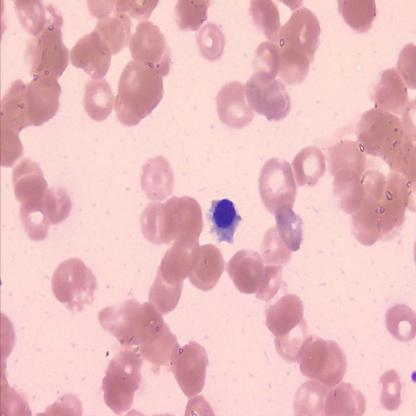NRC: (204, 194, 244, 246)
